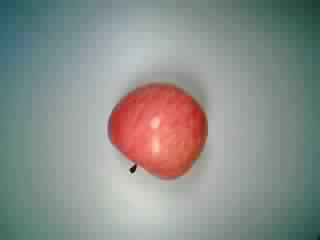apple: (104, 81, 209, 183)
